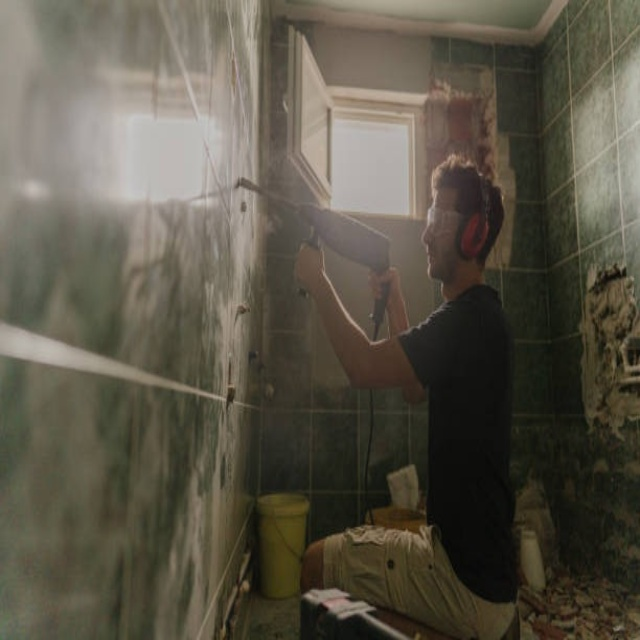Gafas: (425, 205, 469, 231)
Sin_guantes: (365, 260, 404, 304), (294, 240, 327, 290)
Sin_mascara: (422, 237, 447, 279)
